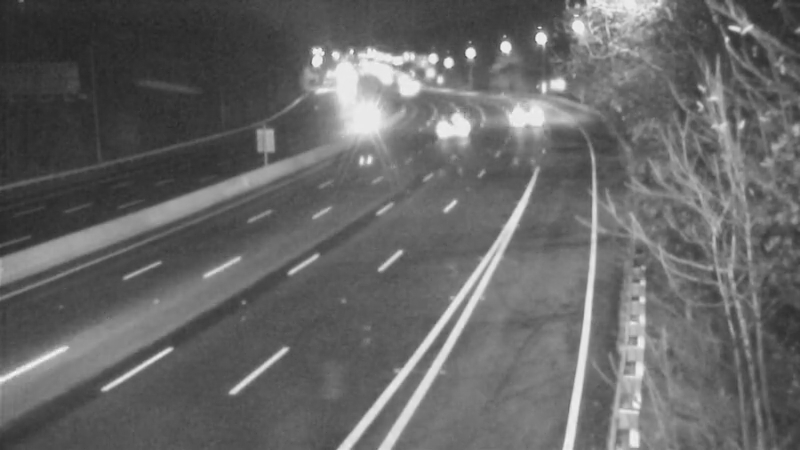vehicle: (494, 87, 544, 137), (427, 101, 477, 151), (333, 99, 383, 149)
